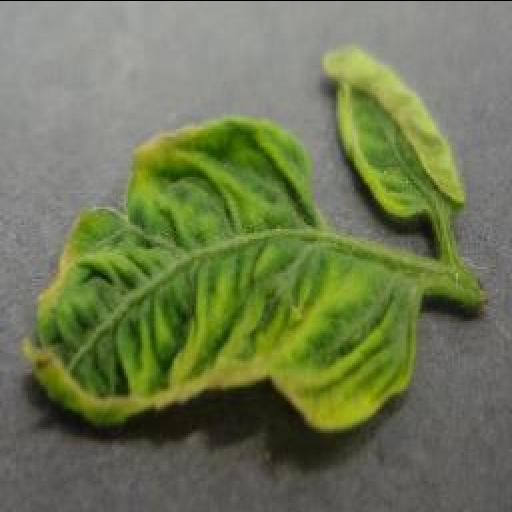disease_tomato: (23, 114, 421, 436), (322, 48, 468, 220)
